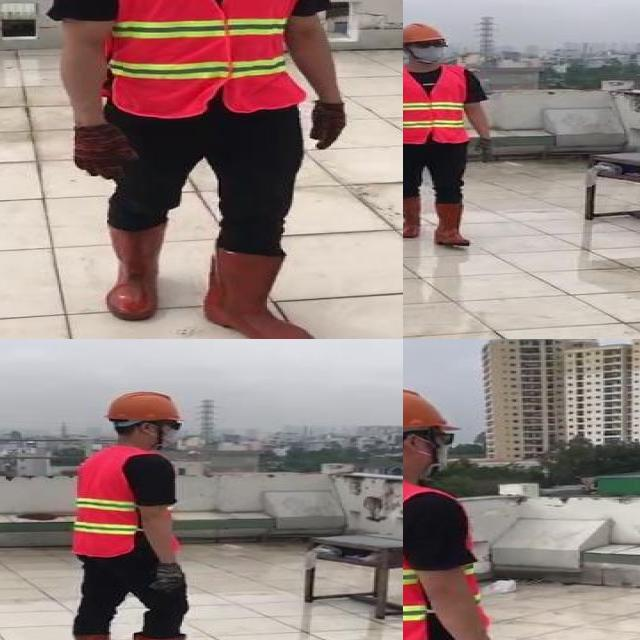boots: (201, 245, 318, 339), (105, 221, 162, 321), (436, 203, 474, 247), (403, 195, 423, 239)
face_mask: (140, 419, 187, 447), (409, 36, 451, 62)
glasses: (408, 39, 449, 51)
hand_glove: (71, 126, 139, 180), (308, 100, 349, 149), (150, 563, 184, 592), (473, 137, 496, 164)
head_helmet: (403, 386, 463, 436), (104, 389, 184, 424), (403, 22, 448, 47)
person: (48, 0, 355, 339), (403, 382, 579, 640), (57, 382, 228, 640), (403, 16, 504, 254)
vest: (107, 0, 302, 114), (403, 478, 485, 640), (75, 445, 145, 557), (403, 64, 467, 143)
